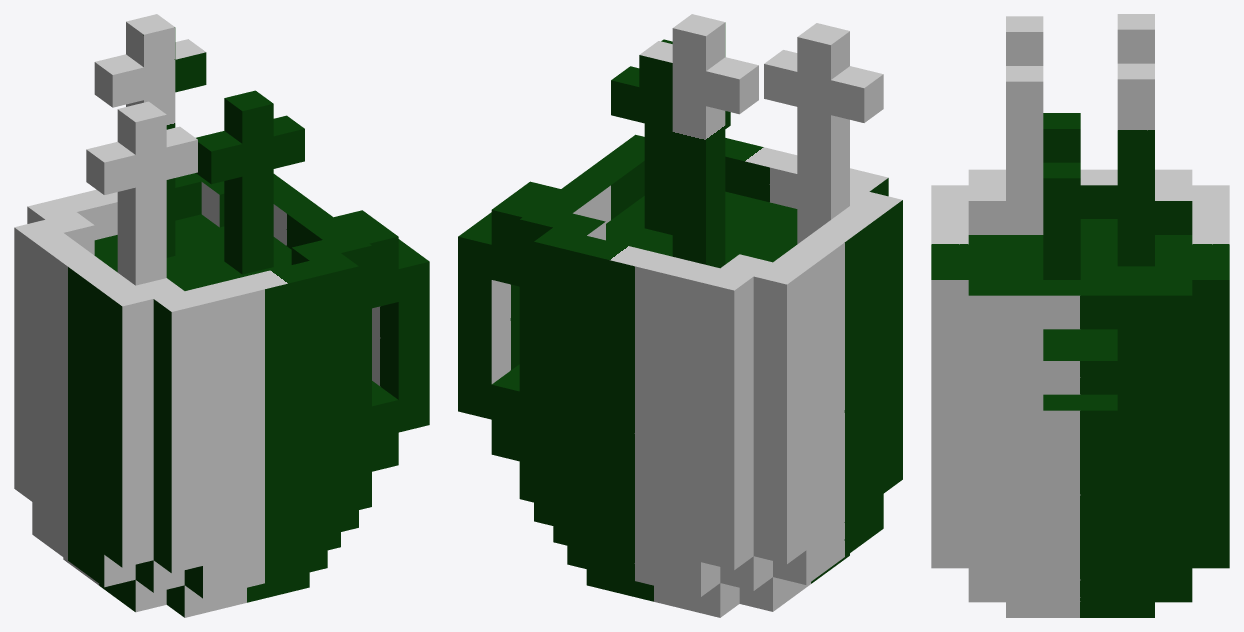
The model's file is Coffee Cup Potted Plant Final.fbx.
3 views of the same model, side by side, from view 1: azimuth 30°, elevation 25°; view 2: azimuth 150°, elevation 25°; view 3: azimuth 270°, elevation 25° (orthographic). The views are drawn at different scales.
Visible parts, largest first — view 1: CupPlant; view 2: CupPlant; view 3: CupPlant.
Part boxes in pixels (left/top/right/bottom): CupPlant: left=14, top=14, right=429, bottom=617; CupPlant: left=458, top=14, right=902, bottom=617; CupPlant: left=931, top=14, right=1229, bottom=617.
Bounding box in the file's own units: 1.1 × 1.6 × 0.8.
Materials: 1 (1 with a texture image).
